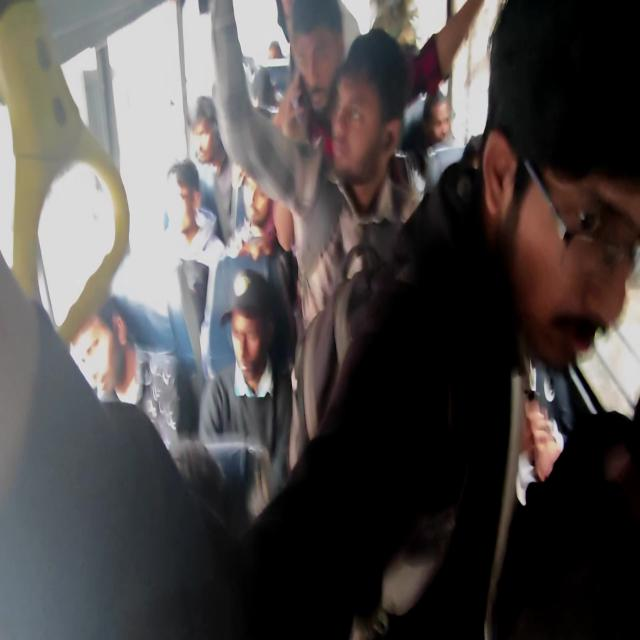person: (493, 17, 637, 393), (337, 62, 395, 172), (76, 308, 136, 392), (292, 21, 341, 116), (160, 164, 208, 255), (231, 283, 271, 378), (190, 99, 221, 183), (241, 164, 279, 229), (425, 90, 455, 154), (250, 68, 277, 126), (269, 38, 281, 63)
